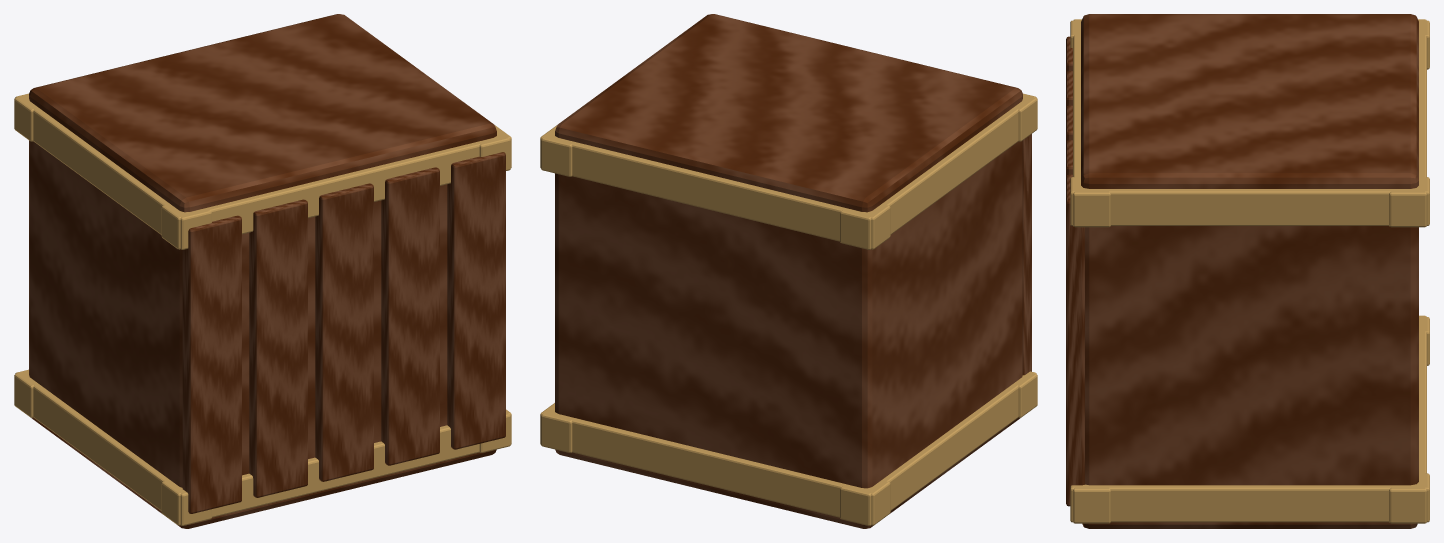
File: Prop_Crate_01_LOD0.fbx
The picture shows the model from 3 angles, left to right: view 1: azimuth 30°, elevation 25°; view 2: azimuth 150°, elevation 25°; view 3: azimuth 270°, elevation 25°; orthographic projection. The views are drawn at different scales.
Parts seen in each view (by area): view 1: Prop_Crate_01_OPT_Merged_RB_Wood_Walnut_OPT_DATA, Prop_Crate_01_OPT_Merged_RB_Brass_Aged_OPT_DATA; view 2: Prop_Crate_01_OPT_Merged_RB_Wood_Walnut_OPT_DATA, Prop_Crate_01_OPT_Merged_RB_Brass_Aged_OPT_DATA; view 3: Prop_Crate_01_OPT_Merged_RB_Wood_Walnut_OPT_DATA, Prop_Crate_01_OPT_Merged_RB_Brass_Aged_OPT_DATA.
Boxes of the visible parts, x1=… form: Prop_Crate_01_OPT_Merged_RB_Wood_Walnut_OPT_DATA: x1=29, y1=14, x2=505, y2=528; Prop_Crate_01_OPT_Merged_RB_Brass_Aged_OPT_DATA: x1=14, y1=93, x2=511, y2=525; Prop_Crate_01_OPT_Merged_RB_Wood_Walnut_OPT_DATA: x1=555, y1=14, x2=1031, y2=528; Prop_Crate_01_OPT_Merged_RB_Brass_Aged_OPT_DATA: x1=540, y1=93, x2=1037, y2=525; Prop_Crate_01_OPT_Merged_RB_Wood_Walnut_OPT_DATA: x1=1066, y1=14, x2=1418, y2=528; Prop_Crate_01_OPT_Merged_RB_Brass_Aged_OPT_DATA: x1=1070, y1=19, x2=1429, y2=523.
Size of the model in its own units: 76 by 72 by 66.75.
Materials: 2 (1 with a texture image).
